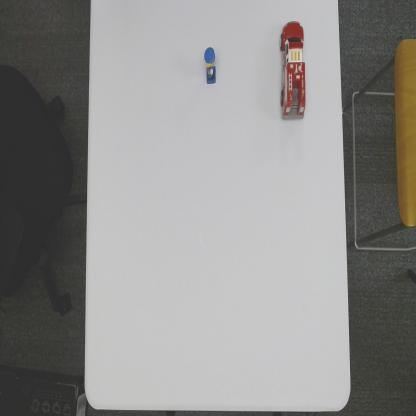Firetruck: (278, 19, 307, 123)
